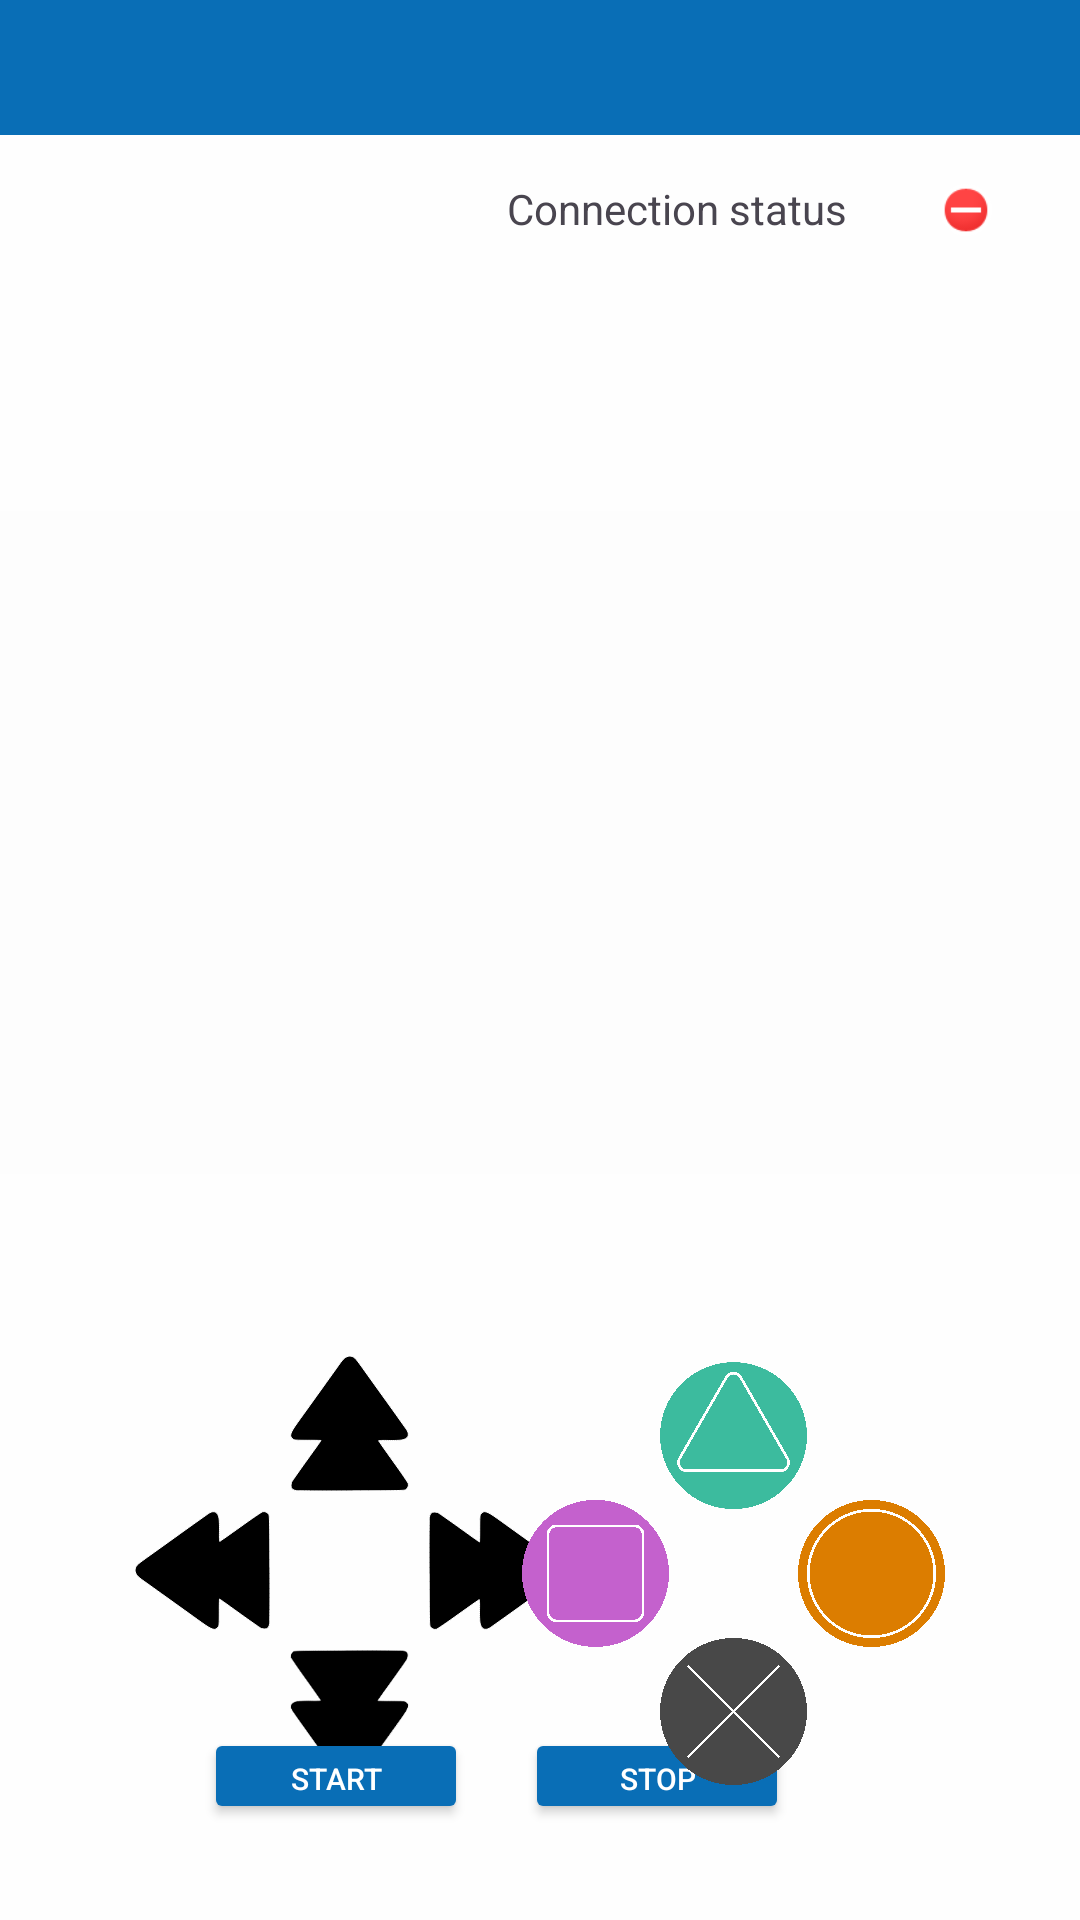

Point at icon controls on the screen. Image size 1080px x 1920px, points as point (x, y).
circle: point (871, 1573)
cross: point (733, 1711)
presence busy: point (966, 210)
triangle: point (733, 1435)
